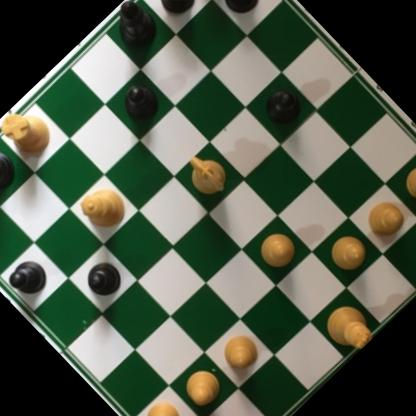black-bishop: (103, 0, 169, 59)
black-king: (0, 134, 24, 208)
black-knight: (142, 0, 207, 23)
black-pawn: (256, 81, 309, 134), (113, 78, 165, 130), (3, 254, 54, 304), (78, 254, 127, 304), (215, 0, 267, 20)
white-king: (316, 297, 380, 360)
white-knight: (176, 143, 237, 205)
white-pawn: (319, 225, 375, 281), (175, 361, 230, 416), (250, 223, 303, 275), (214, 326, 266, 378), (361, 195, 411, 246), (134, 392, 188, 416), (394, 154, 416, 209)
white-queen: (73, 177, 136, 240)
white-rook: (0, 100, 58, 168)
